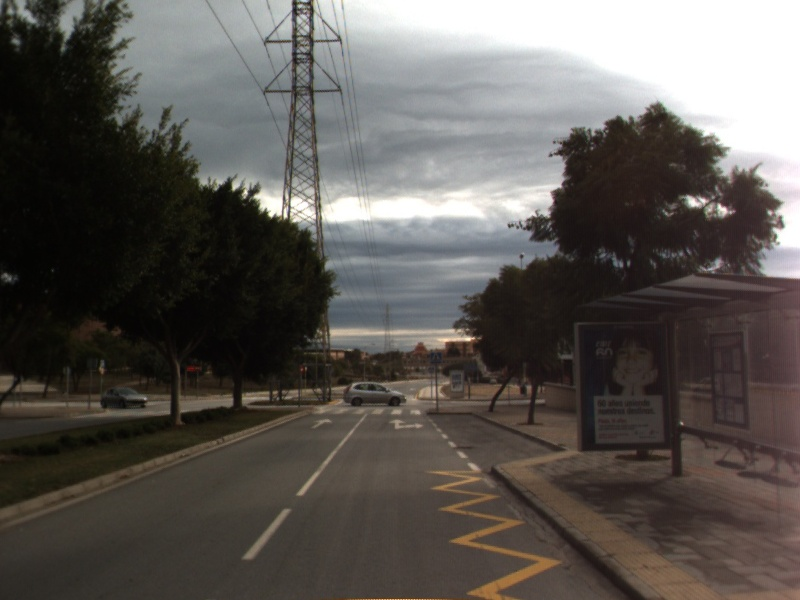STRAIGHT: (309, 416, 335, 431)
STRAIGHT_RIGHT: (387, 417, 426, 431)
